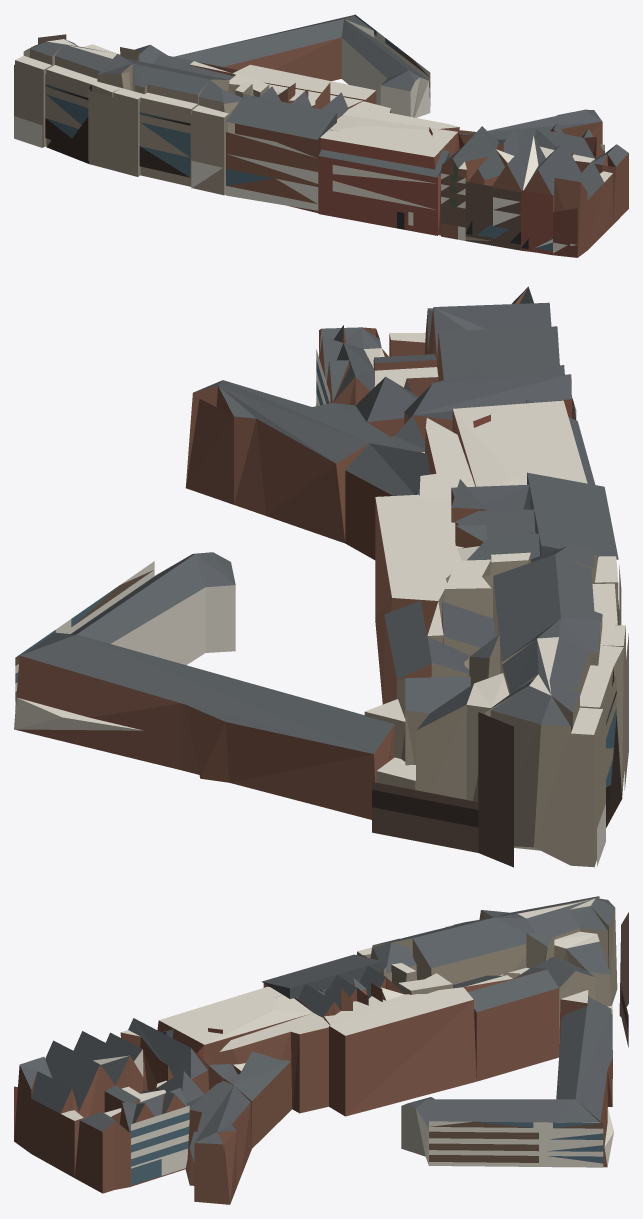
File: oude-turfmarkt-139.lod2.glb
3 views of the same model, one above another, from view 1: azimuth 30°, elevation 25°; view 2: azimuth 150°, elevation 25°; view 3: azimuth 270°, elevation 25° (orthographic). The views are drawn at different scales.
Parts seen in each view (by area): view 1: lod2; view 2: lod2; view 3: lod2.
Part boxes in pixels (left/top/right/bottom): lod2: left=14, top=14, right=628, bottom=257; lod2: left=14, top=286, right=628, bottom=867; lod2: left=14, top=896, right=628, bottom=1204.
Bounding box in the file's own units: 100 × 22.18 × 118.
